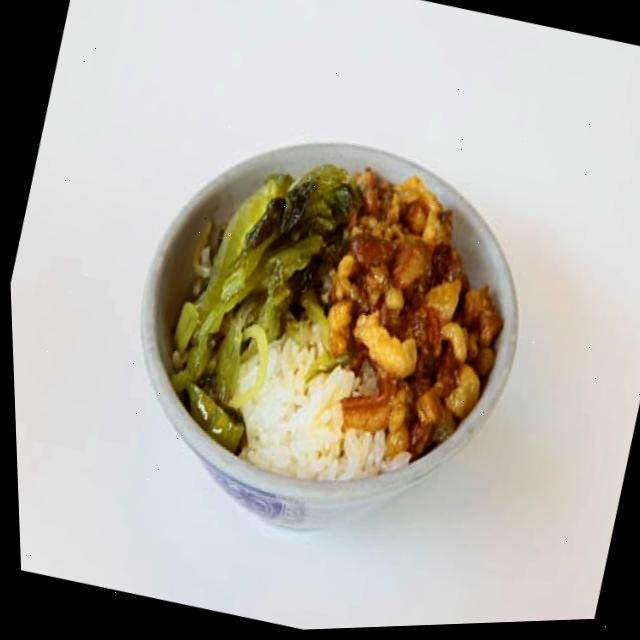猪肉菜式: (75, 87, 581, 584)
